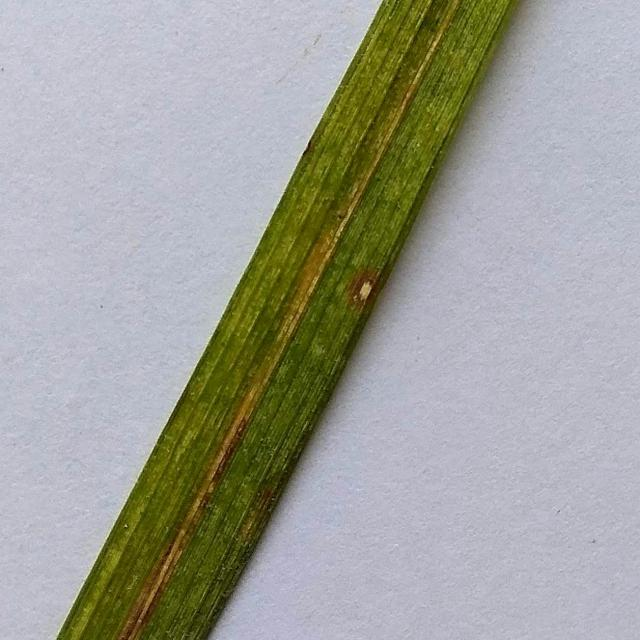Leaf_Blast: (338, 250, 386, 309)
